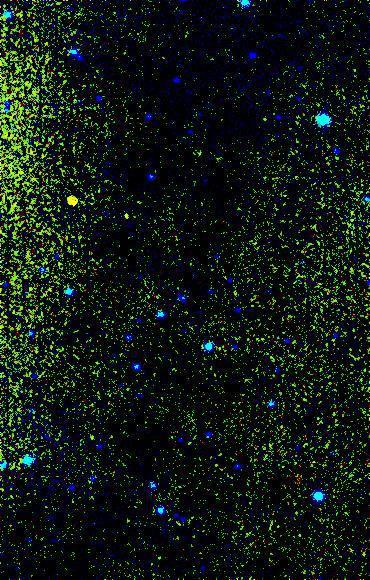star: (110, 198, 140, 228)
